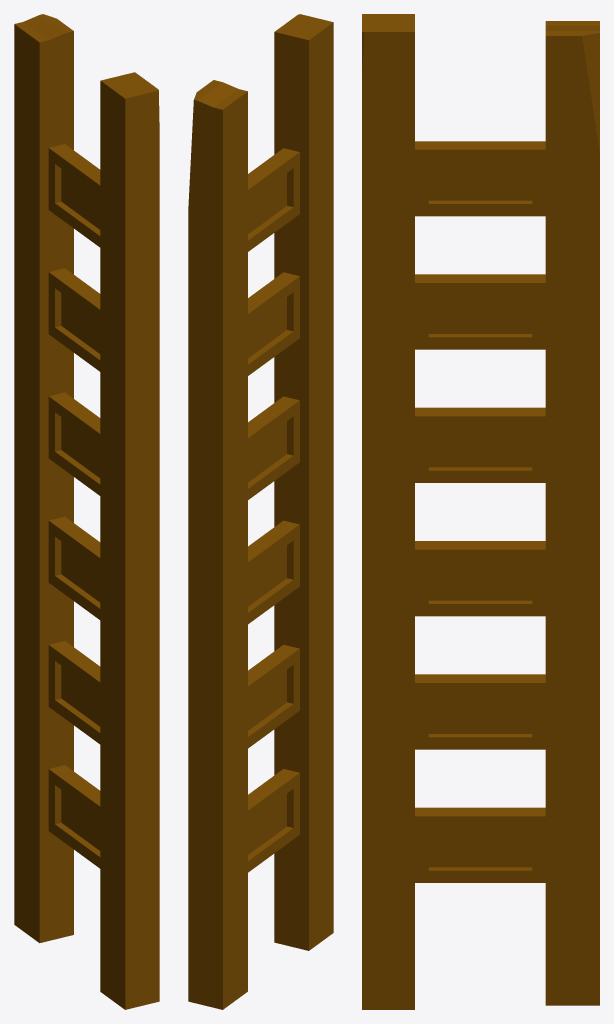
Rendered from Escalera.fbx.
The picture shows the model from 3 angles, left to right: view 1: azimuth 30°, elevation 25°; view 2: azimuth 150°, elevation 25°; view 3: azimuth 270°, elevation 25°; orthographic projection. The views are drawn at different scales.
Parts seen in each view (by area): view 1: Cube; view 2: Cube; view 3: Cube.
Part boxes in pixels (x1,y1,x2,y2): Cube: (14, 14, 159, 1009); Cube: (188, 14, 333, 1009); Cube: (362, 14, 599, 1009).
Size of the model in its own units: 161 by 4069 by 897.
